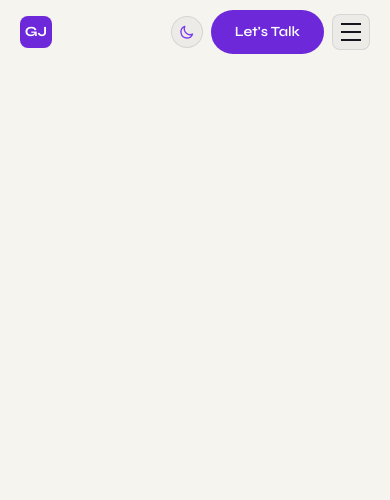
Navbar › opens the mobile menu and closes it again on Escape
Click the button named "Open menu": point(351, 32) [332,14,370,50]
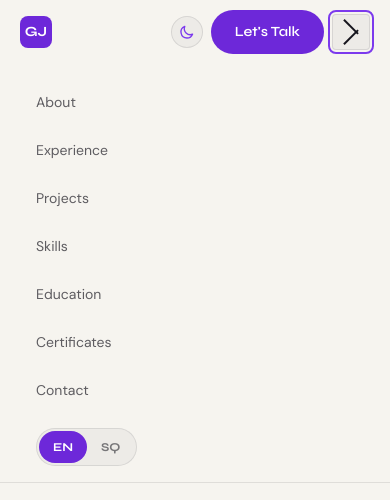
Check: the button named "Close menu" is expanded, box [332,14,370,50]
Press Escape
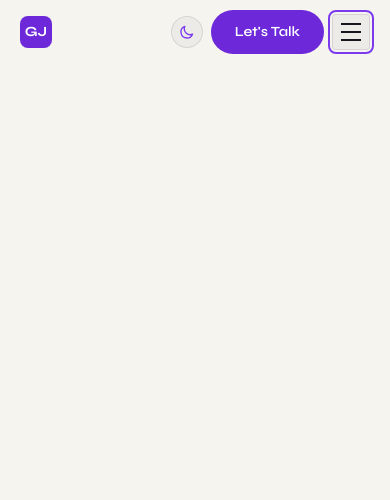
Check: the button named "Open menu" is collapsed, box [332,14,370,50]
